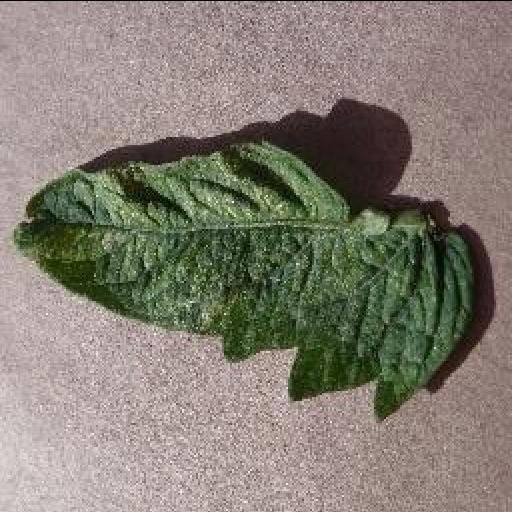disease_tomato: (8, 136, 472, 424)
